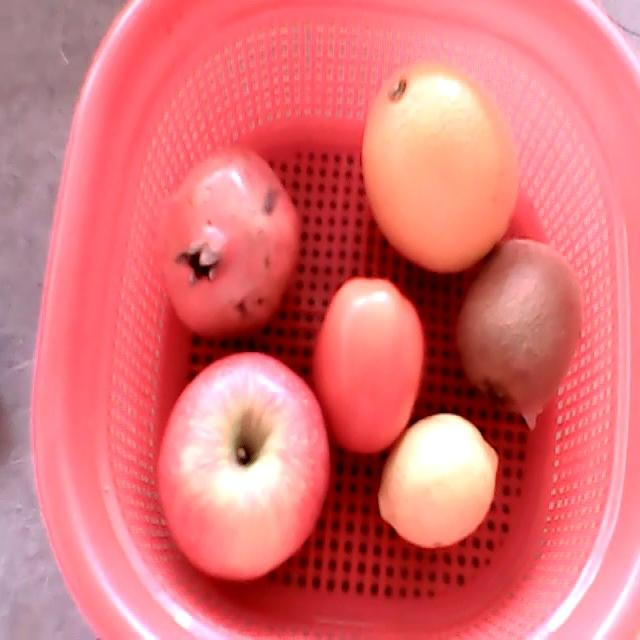apple: (157, 351, 330, 579)
kiwi: (455, 240, 583, 418)
lemon: (379, 412, 498, 546)
orange: (362, 59, 519, 274)
pomegranate: (159, 142, 303, 337)
tomato: (314, 274, 424, 453)
